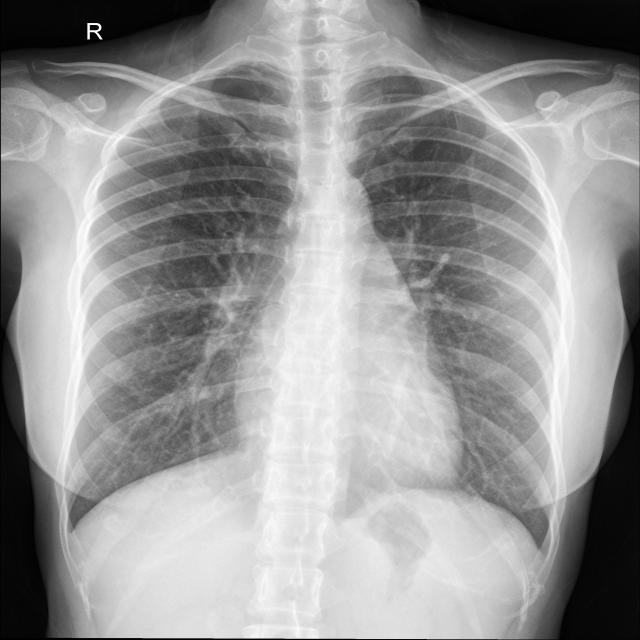no-pneumonia: (68, 60, 303, 506), (346, 70, 557, 540)
